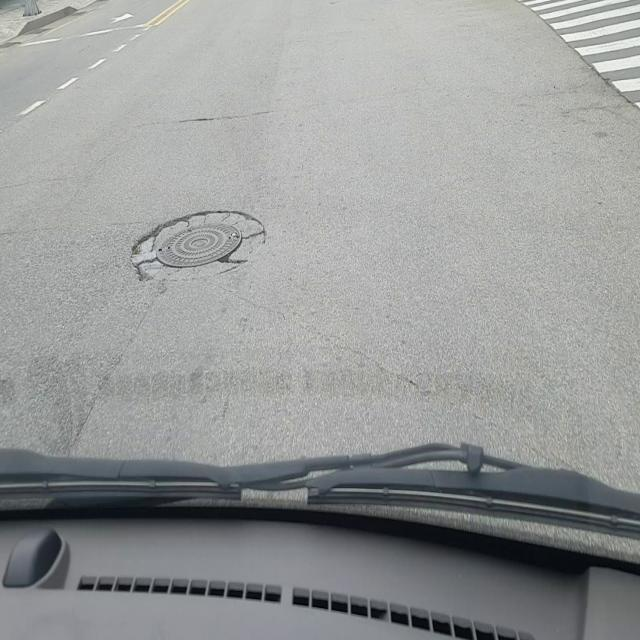Pothole: (125, 201, 270, 285)
